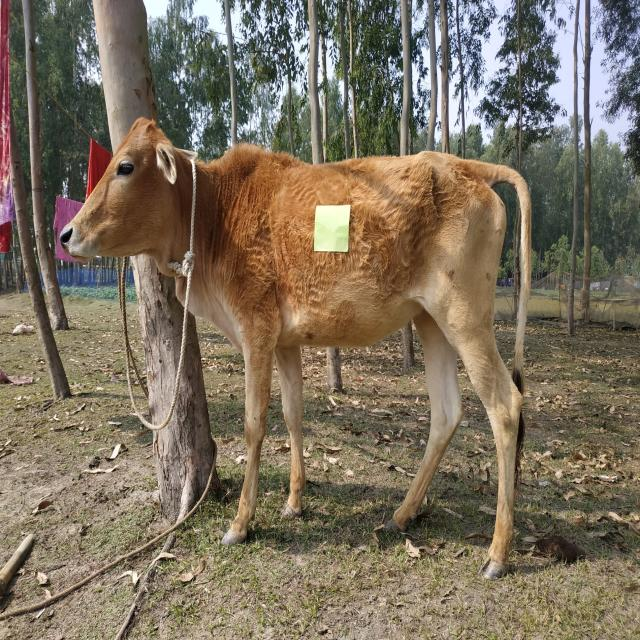badan_sapi: (236, 152, 500, 350)
sapi: (58, 114, 534, 582)
